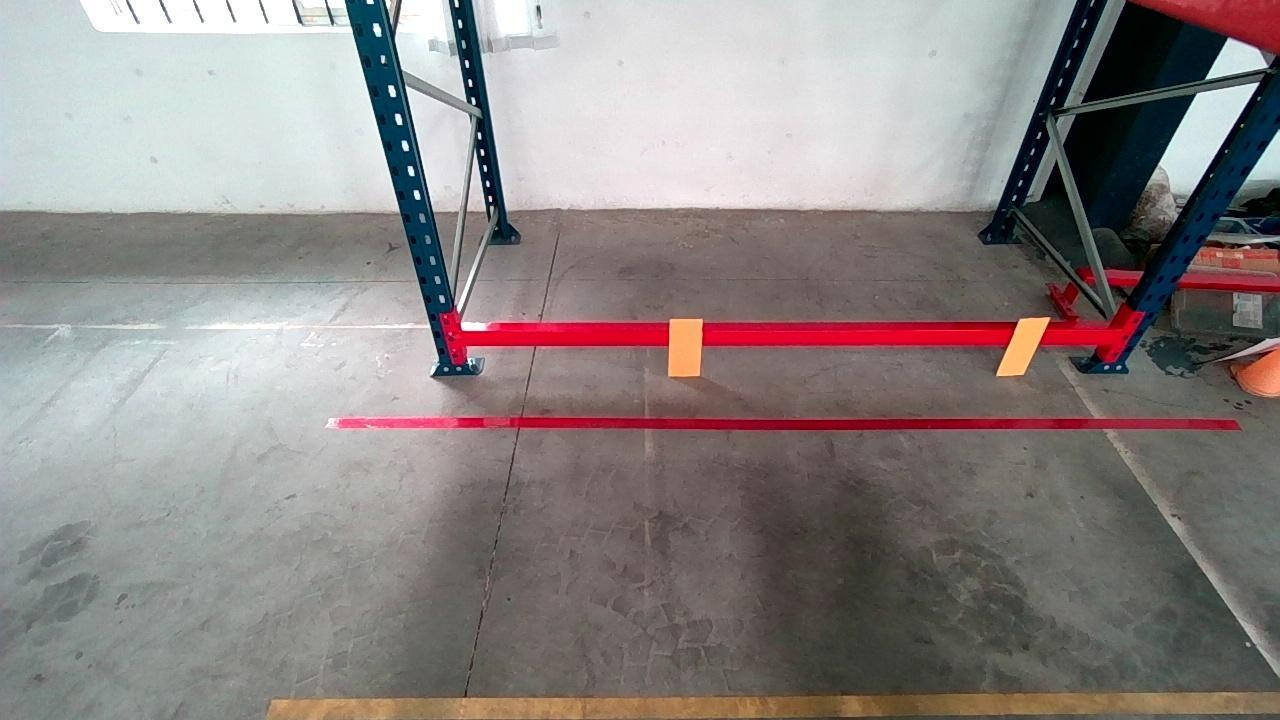h_rack: (458, 328, 1114, 344)
orange_strip: (997, 317, 1053, 375), (669, 316, 703, 375)
red_line: (326, 414, 1245, 430)
yellow_line: (267, 693, 1280, 717)
